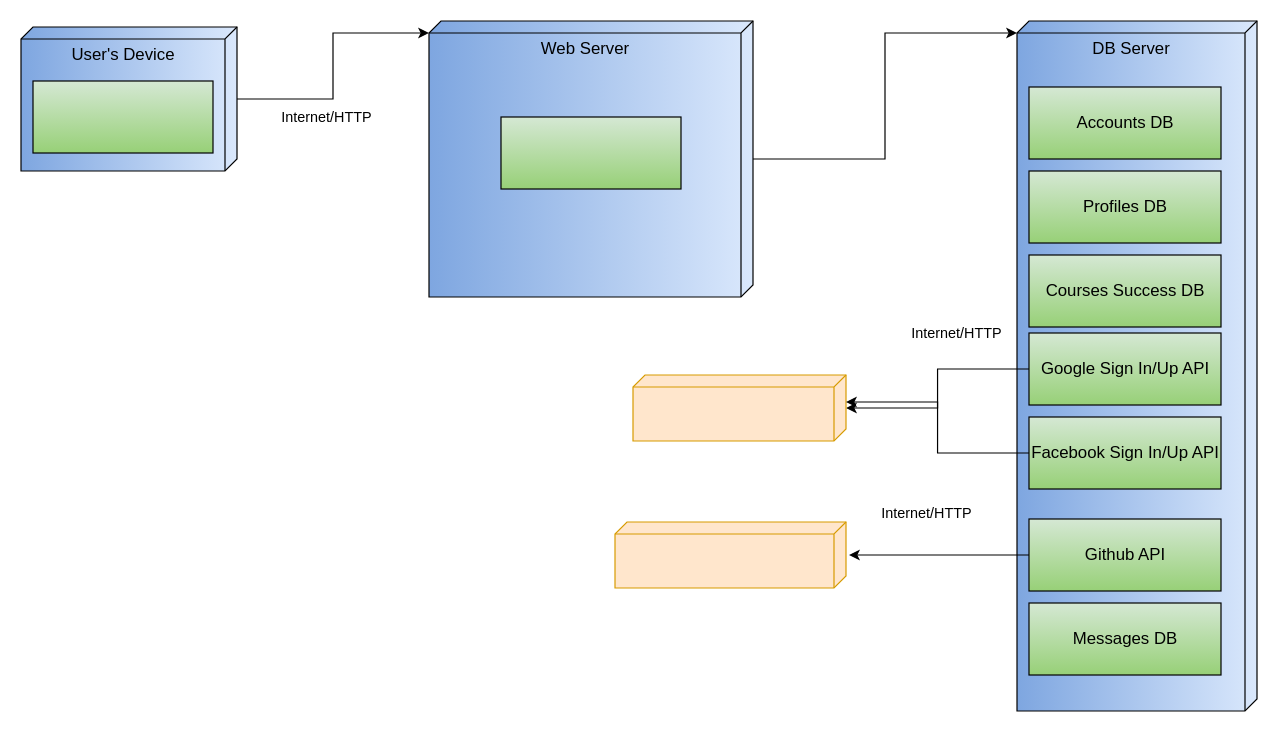
Some shapes in this 1278 by 732 pixel diagram are drawn without their labels. The shapes that lost their labels are listed below. From the top down, each one's centre as x and y in pixels, then its label:
the point at 122,116: Web Browser App
the point at 590,152: AzDeveloper.java
the point at 739,407: <<Authentication Provider>>
the point at 730,554: <<Repositories Provider>>
